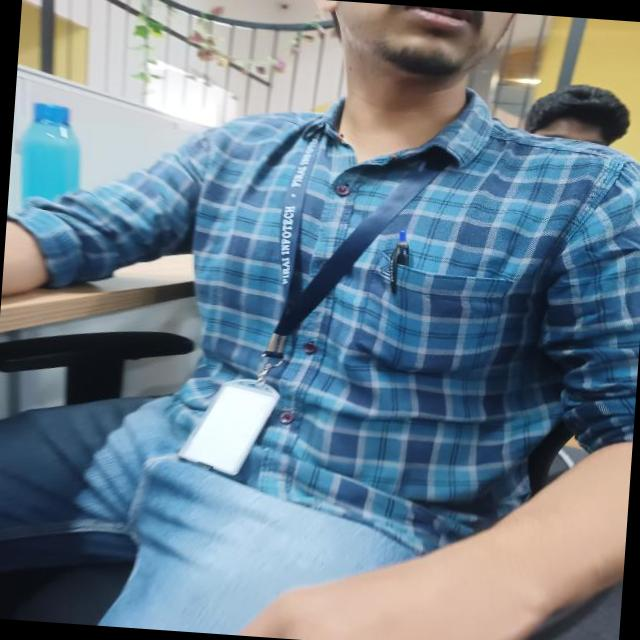id_card: (180, 104, 438, 486)
